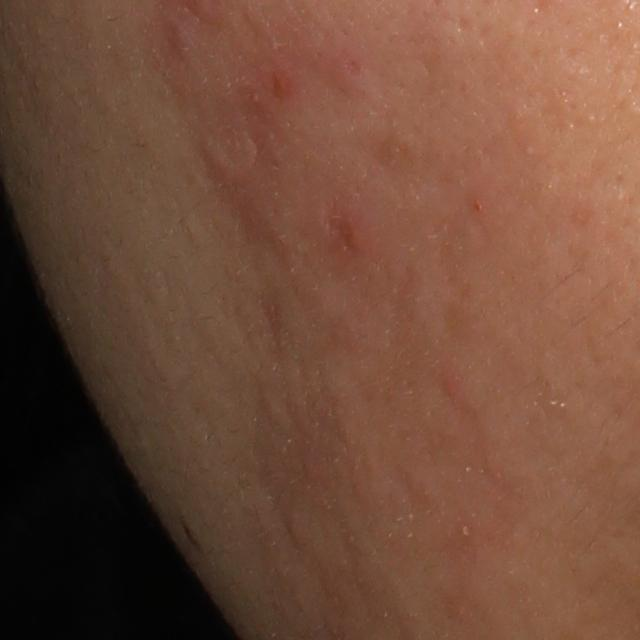papule: (268, 69, 295, 104)
